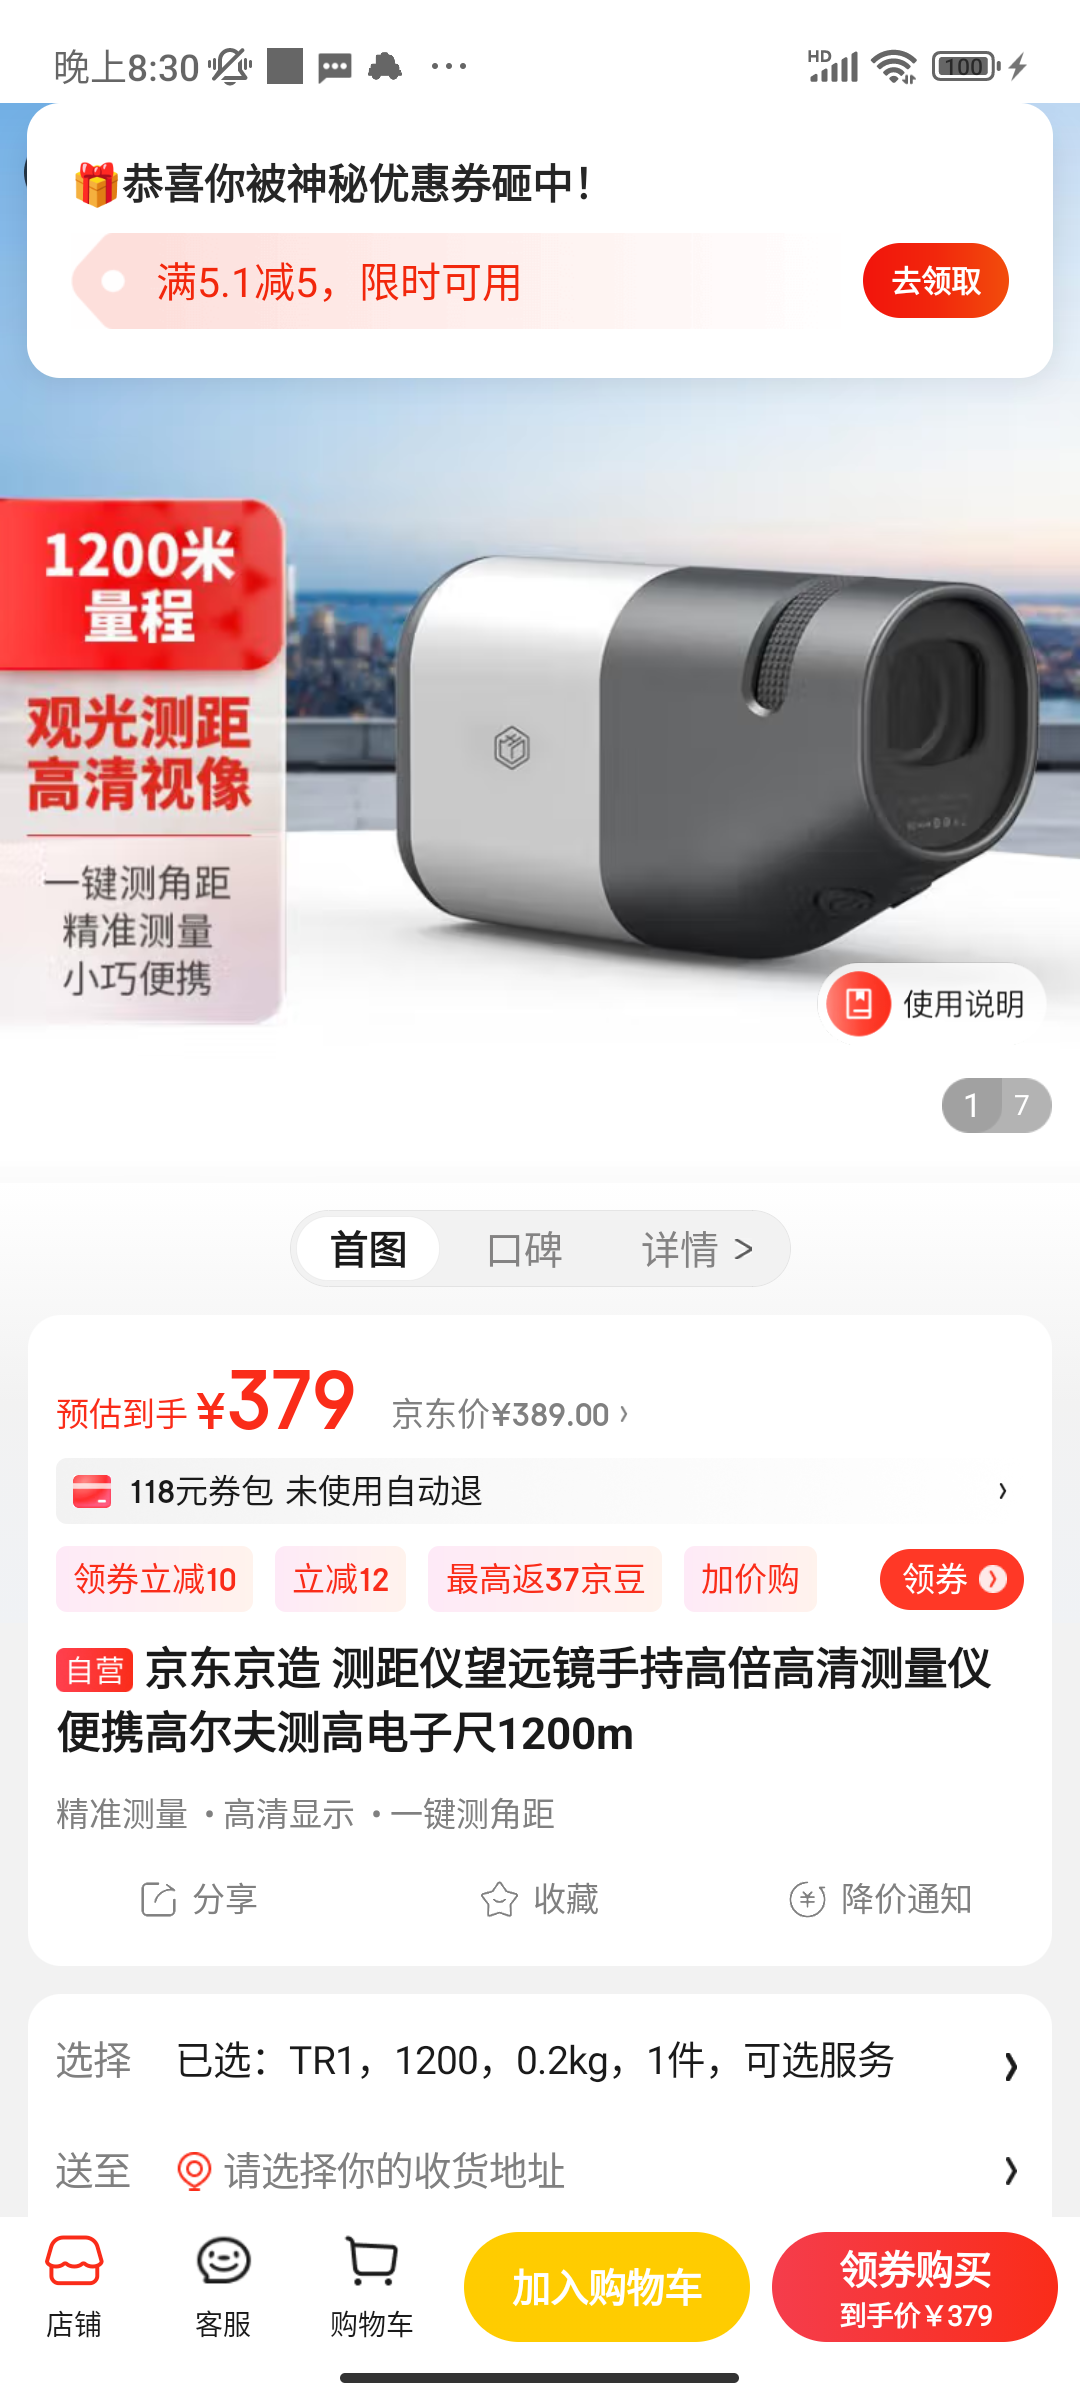ui_group: (28, 109, 1052, 381), (43, 1531, 1048, 1635), (49, 1449, 1042, 1523), (21, 2224, 148, 2354), (318, 2219, 433, 2357), (171, 2227, 269, 2359)
